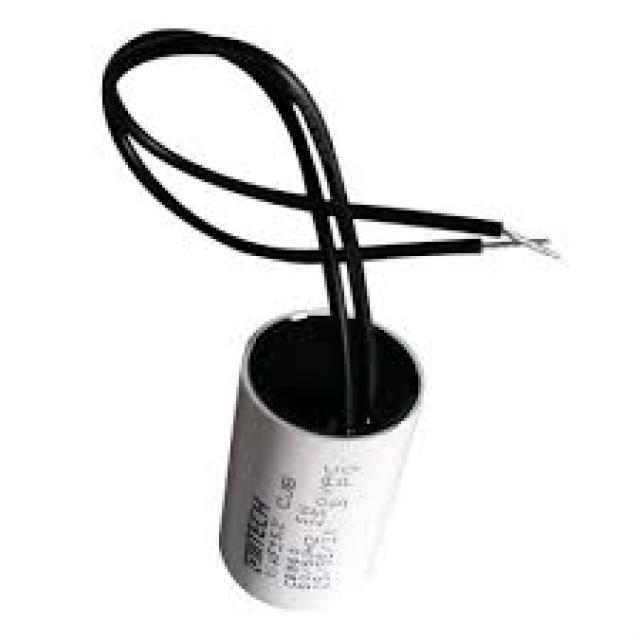Capacitor: (222, 310, 426, 610)
